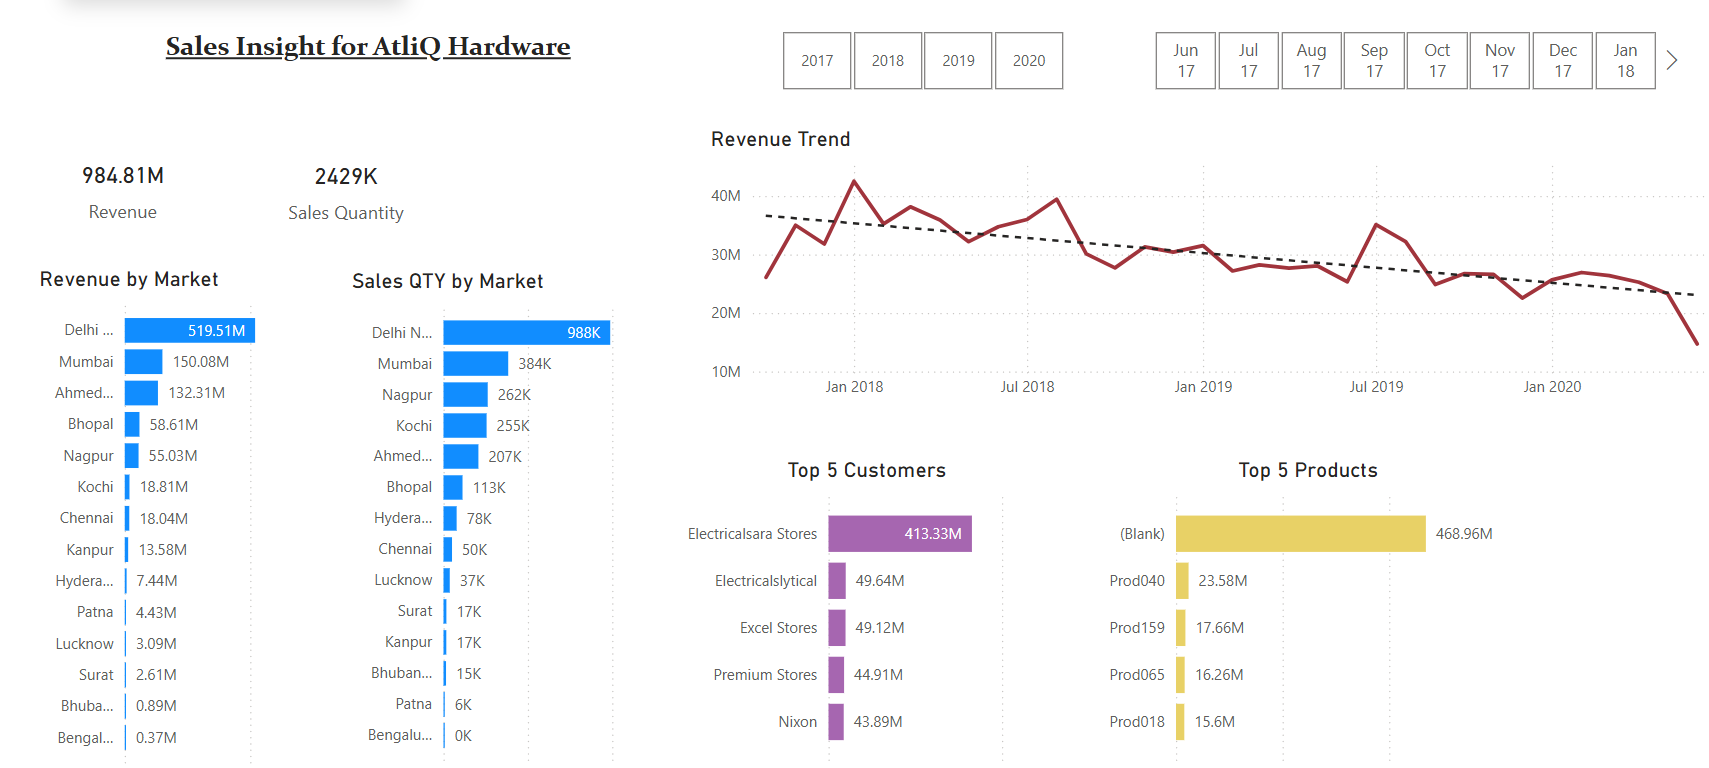

The dashboard page shown, as its layout file describes it:
{"tool":"powerbi","page":{"name":"Key Insights","canvas":[1460,720],"ordinal":0},"visuals":[{"type":"card","fields":{"Values":["Measure Table.Revenue"]},"box":[0,90,181,101],"z":0},{"type":"card","fields":{"Values":["Sum(sales transactions.sales_qty)"]},"box":[181,90,176,102],"z":1000},{"type":"clusteredBarChart","title":"Revenue by Market","fields":{"Y":["Measure Table.Revenue"],"Category":["sales markets.markets_name"]},"box":[19.1,202.1,241.5,426.6],"z":2000},{"type":"clusteredBarChart","title":"Sales QTY by Market","fields":{"Y":["Measure Table.Sales QTY"],"Category":["sales markets.markets_name"]},"box":[269.1,204.3,258.5,422.3],"z":3000},{"type":"clusteredBarChart","title":"Top 5 Customers","fields":{"Category":["sales customers.custmer_name"],"Y":["Measure Table.Revenue"]},"box":[527.7,355.3,316,271.3],"z":4000},{"type":"slicer","fields":{"Values":["sales date.year"]},"box":[593,9,274,59],"z":5000},{"type":"slicer","fields":{"Values":["sales date.cy_date"]},"box":[891,9,450,59],"z":6000},{"type":"clusteredBarChart","title":"Top 5 Products","fields":{"Category":["sales products.product_code"],"Y":["Measure Table.Revenue"]},"box":[870,355,338,272],"z":7000},{"type":"lineChart","title":"Revenue Trend","fields":{"Y":["Measure Table.Revenue"],"Category":["sales date.cy_date.Variation.Date Hierarchy.Year","sales date.cy_date.Variation.Date Hierarchy.Month"]},"box":[556,90,823,227],"z":8000},{"type":"textbox","box":[0,9,574,68],"z":9000}]}

Visuals, with their boxes on the page's 1460x720 design canvas (x1, y1, x2, y2). These are canvas units, not pixel positions in the 1709x768 screenshot, which may show the page scaled, cropped or inside an application window:
card - Measure Table.Revenue: [x1=0, y1=90, x2=181, y2=191]
card - Sum(sales transactions.sales_qty): [x1=181, y1=90, x2=357, y2=192]
"Revenue by Market" clusteredBarChart: [x1=19, y1=202, x2=261, y2=629]
"Sales QTY by Market" clusteredBarChart: [x1=269, y1=204, x2=528, y2=627]
"Top 5 Customers" clusteredBarChart: [x1=528, y1=355, x2=844, y2=627]
slicer - sales date.year: [x1=593, y1=9, x2=867, y2=68]
slicer - sales date.cy_date: [x1=891, y1=9, x2=1341, y2=68]
"Top 5 Products" clusteredBarChart: [x1=870, y1=355, x2=1208, y2=627]
"Revenue Trend" lineChart: [x1=556, y1=90, x2=1379, y2=317]
textbox: [x1=0, y1=9, x2=574, y2=77]
